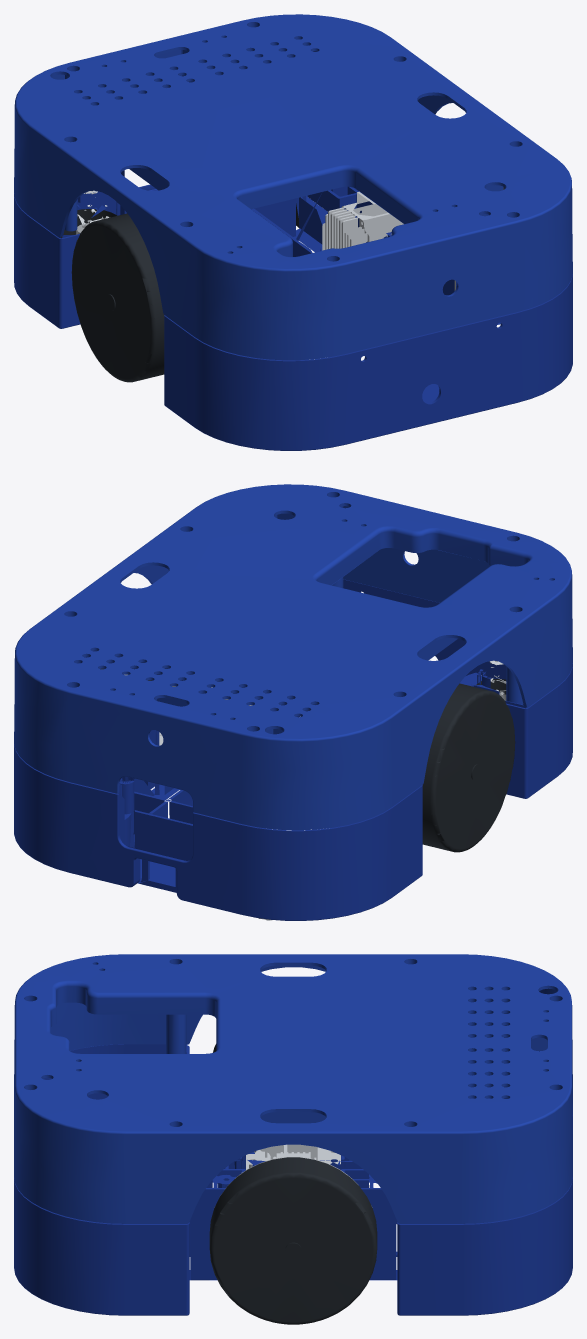
Rendered from CartShell_1026.glb.
3 renders of one model, top to bottom at view 1: azimuth 30°, elevation 25°; view 2: azimuth 150°, elevation 25°; view 3: azimuth 270°, elevation 25°, orthographic.
Parts seen in each view (by area): view 1: 01_UpperShell, 00_LowerShell, 02_DriveWheel, 04_DriveWheel; view 2: 01_UpperShell, 00_LowerShell, 02_DriveWheel; view 3: 01_UpperShell, 00_LowerShell, 04_DriveWheel, 02_DriveWheel, 03_Hardware.
Boxes of the visible parts, x1=… form: 01_UpperShell: x1=14, y1=14, x2=572, y2=360; 00_LowerShell: x1=14, y1=170, x2=572, y2=450; 02_DriveWheel: x1=71, y1=213, x2=164, y2=382; 04_DriveWheel: x1=322, y1=187, x2=504, y2=290; 01_UpperShell: x1=14, y1=484, x2=572, y2=830; 00_LowerShell: x1=14, y1=579, x2=572, y2=920; 02_DriveWheel: x1=422, y1=683, x2=515, y2=852; 01_UpperShell: x1=14, y1=954, x2=572, y2=1223; 00_LowerShell: x1=14, y1=1044, x2=572, y2=1315; 04_DriveWheel: x1=209, y1=1152, x2=377, y2=1324; 02_DriveWheel: x1=213, y1=1044, x2=322, y2=1159; 03_Hardware: x1=246, y1=1149, x2=340, y2=1169.
Size of the model in its own units: 0.382 by 0.1955 by 0.5.
